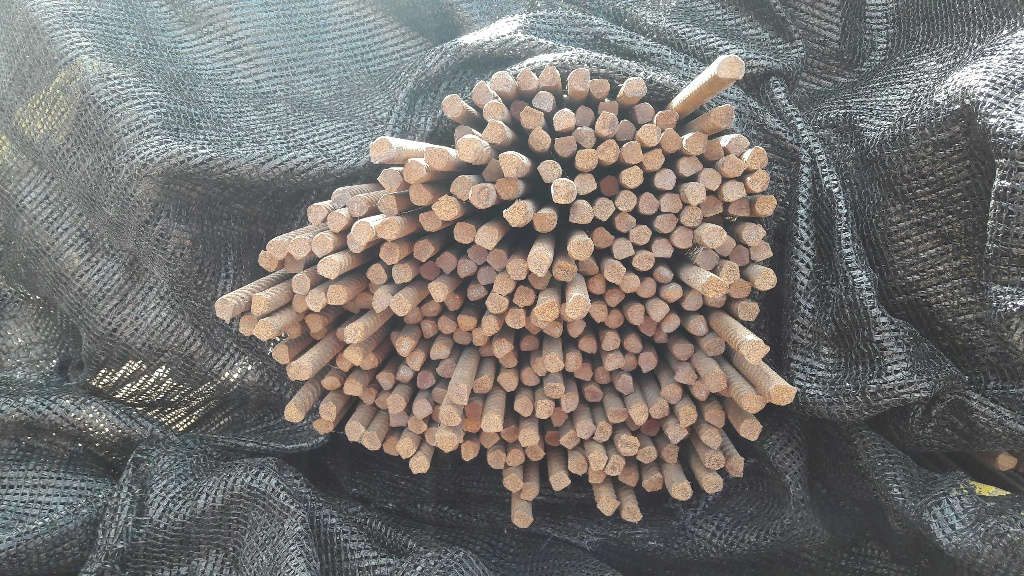dipstick: (715, 54, 747, 82), (503, 199, 535, 225), (483, 119, 511, 147), (368, 136, 394, 166), (765, 383, 796, 408), (456, 135, 481, 163), (431, 195, 459, 220), (552, 177, 577, 205), (699, 224, 725, 250), (566, 236, 594, 260), (405, 182, 433, 205), (440, 94, 465, 119), (527, 250, 552, 275), (423, 145, 447, 171), (467, 184, 493, 208), (721, 153, 747, 177), (568, 200, 594, 224), (591, 196, 615, 222), (744, 170, 771, 193), (620, 76, 648, 98), (529, 211, 558, 232), (490, 71, 514, 96), (537, 159, 562, 183), (552, 107, 577, 131), (712, 105, 736, 130), (745, 145, 769, 170), (744, 339, 769, 363), (495, 177, 521, 200), (721, 179, 747, 202), (670, 227, 696, 250), (741, 222, 767, 245), (499, 152, 521, 179), (677, 155, 704, 177), (403, 158, 427, 182), (377, 168, 401, 192), (595, 111, 619, 135), (597, 139, 621, 163), (482, 158, 505, 183), (519, 105, 544, 128), (566, 68, 591, 91), (654, 108, 679, 131), (637, 123, 662, 146), (621, 140, 644, 165), (572, 172, 597, 195), (694, 248, 719, 271), (753, 268, 778, 291), (450, 175, 472, 201), (571, 126, 597, 148), (723, 135, 749, 157), (516, 68, 540, 91), (699, 167, 722, 191), (679, 204, 703, 227), (603, 261, 626, 285), (645, 298, 669, 321), (738, 418, 762, 441), (418, 211, 443, 233), (661, 127, 683, 152), (658, 192, 683, 214), (620, 166, 645, 188), (736, 300, 761, 322), (528, 269, 554, 290), (740, 395, 766, 416), (684, 132, 707, 155), (654, 168, 677, 191), (378, 241, 400, 265), (311, 233, 333, 257), (316, 258, 340, 280), (454, 220, 476, 244), (474, 227, 498, 249), (470, 81, 494, 103), (528, 126, 550, 150), (512, 285, 536, 307), (574, 148, 598, 170), (632, 100, 654, 124), (684, 182, 706, 206), (590, 227, 614, 249), (728, 244, 752, 266), (719, 259, 741, 283), (651, 237, 675, 259), (660, 282, 684, 304), (213, 297, 234, 322), (640, 148, 665, 169), (727, 198, 752, 219), (748, 241, 774, 261), (255, 319, 277, 342), (358, 430, 381, 452), (568, 295, 590, 318), (553, 134, 576, 156), (615, 189, 637, 212), (615, 211, 638, 233), (612, 238, 635, 260), (633, 251, 656, 273), (704, 370, 726, 393), (701, 473, 724, 495), (411, 241, 435, 262), (494, 273, 515, 297), (553, 260, 577, 281), (754, 195, 778, 216), (638, 191, 659, 215), (437, 430, 457, 455), (482, 100, 507, 120), (700, 197, 725, 217), (703, 275, 728, 295), (352, 221, 374, 243), (344, 232, 366, 254), (326, 284, 348, 306), (506, 259, 528, 281), (703, 139, 725, 161), (485, 293, 508, 314), (660, 384, 683, 405), (726, 455, 747, 478), (377, 217, 397, 241), (286, 361, 310, 381), (654, 213, 678, 233), (703, 290, 727, 310), (700, 430, 724, 450), (596, 496, 620, 516), (289, 237, 311, 258), (390, 263, 412, 284), (305, 291, 326, 313), (533, 90, 554, 112), (539, 65, 560, 87), (543, 352, 565, 373), (512, 397, 534, 418), (598, 175, 620, 196), (730, 277, 751, 299), (600, 330, 621, 352), (613, 374, 635, 395), (618, 435, 640, 456), (667, 422, 689, 443), (456, 313, 479, 333), (438, 406, 461, 426), (476, 266, 499, 286), (486, 448, 506, 471), (568, 452, 588, 475), (629, 225, 652, 245), (660, 442, 680, 465), (703, 409, 726, 429), (511, 510, 535, 529), (548, 471, 572, 490), (576, 257, 601, 275), (411, 398, 432, 419), (402, 350, 423, 371), (427, 281, 448, 302), (448, 385, 469, 406), (688, 315, 709, 336), (377, 194, 399, 214), (257, 249, 277, 271), (291, 273, 311, 295), (251, 294, 271, 316), (466, 244, 488, 264), (505, 307, 525, 329), (480, 314, 500, 336), (497, 371, 517, 393), (637, 276, 657, 298), (683, 289, 703, 311), (638, 352, 658, 374), (635, 445, 657, 465), (703, 451, 725, 471), (671, 481, 693, 501), (344, 420, 363, 443), (452, 124, 475, 143), (703, 337, 726, 356), (671, 343, 694, 362), (642, 473, 665, 492), (535, 398, 553, 422), (587, 79, 611, 97), (307, 204, 327, 225), (325, 212, 346, 232), (236, 315, 256, 336), (271, 343, 291, 364), (409, 454, 429, 475), (375, 370, 396, 390), (487, 250, 508, 270), (536, 300, 556, 321), (502, 473, 522, 494), (574, 419, 595, 439), (614, 119, 634, 140), (586, 274, 606, 295), (604, 287, 624, 308), (605, 309, 625, 330), (639, 417, 660, 437), (677, 405, 697, 426), (345, 197, 367, 216), (365, 265, 387, 284), (342, 348, 364, 367), (437, 252, 456, 274), (492, 338, 514, 357), (519, 334, 541, 353), (525, 315, 544, 337), (716, 234, 735, 256), (588, 301, 607, 323), (675, 368, 697, 387), (618, 466, 637, 488), (621, 505, 644, 523), (480, 417, 504, 434), (477, 431, 501, 448), (389, 296, 409, 316), (283, 403, 303, 423), (407, 415, 427, 435), (415, 370, 435, 390), (638, 316, 658, 336), (622, 334, 642, 354), (627, 404, 647, 424), (650, 399, 670, 419), (334, 353, 355, 372), (458, 441, 477, 462), (395, 336, 414, 357), (421, 259, 440, 280), (566, 319, 587, 338), (521, 366, 540, 387), (463, 401, 482, 422), (518, 429, 539, 448), (331, 189, 353, 207), (265, 240, 287, 258), (397, 437, 415, 459), (466, 283, 488, 301), (543, 381, 565, 399), (598, 99, 620, 117), (576, 105, 594, 127), (653, 265, 675, 283), (626, 304, 644, 326), (606, 455, 624, 477), (283, 254, 303, 273), (290, 293, 309, 313), (319, 401, 338, 421), (342, 379, 362, 398), (438, 314, 457, 334), (435, 359, 455, 378), (457, 258, 476, 278), (509, 99, 529, 118), (473, 375, 492, 395), (562, 429, 581, 449), (559, 392, 578, 412), (620, 275, 640, 294), (605, 352, 624, 372), (302, 313, 323, 331), (690, 379, 708, 400), (311, 419, 333, 436), (419, 320, 438, 339), (506, 448, 525, 467), (574, 363, 593, 382), (583, 383, 602, 402), (593, 421, 612, 440), (607, 406, 626, 425), (587, 450, 606, 469), (354, 292, 374, 310), (370, 293, 388, 313), (395, 363, 413, 383), (532, 308, 550, 328), (544, 320, 564, 338), (525, 444, 545, 462), (551, 406, 569, 426), (387, 411, 408, 428), (430, 343, 451, 360), (565, 352, 582, 373), (342, 325, 361, 343), (381, 438, 399, 457), (387, 394, 405, 413), (472, 327, 490, 346), (520, 482, 538, 501), (594, 366, 612, 385), (501, 425, 518, 445), (579, 337, 597, 355), (662, 314, 680, 332), (358, 387, 375, 406), (403, 308, 422, 325), (442, 294, 461, 311), (453, 328, 472, 345), (544, 429, 561, 448), (586, 468, 606, 484), (560, 302, 575, 323), (533, 357, 548, 378), (422, 300, 440, 317), (362, 353, 378, 372), (340, 301, 360, 316), (499, 352, 519, 367), (621, 355, 638, 372), (431, 387, 447, 405), (321, 376, 340, 391), (461, 417, 480, 432), (425, 427, 439, 447), (284, 322, 300, 339), (653, 327, 669, 344), (477, 343, 495, 358), (373, 394, 389, 409), (309, 328, 326, 342), (626, 416, 639, 432), (334, 326, 346, 343), (389, 331, 401, 347), (430, 405, 440, 424), (368, 281, 378, 296)
